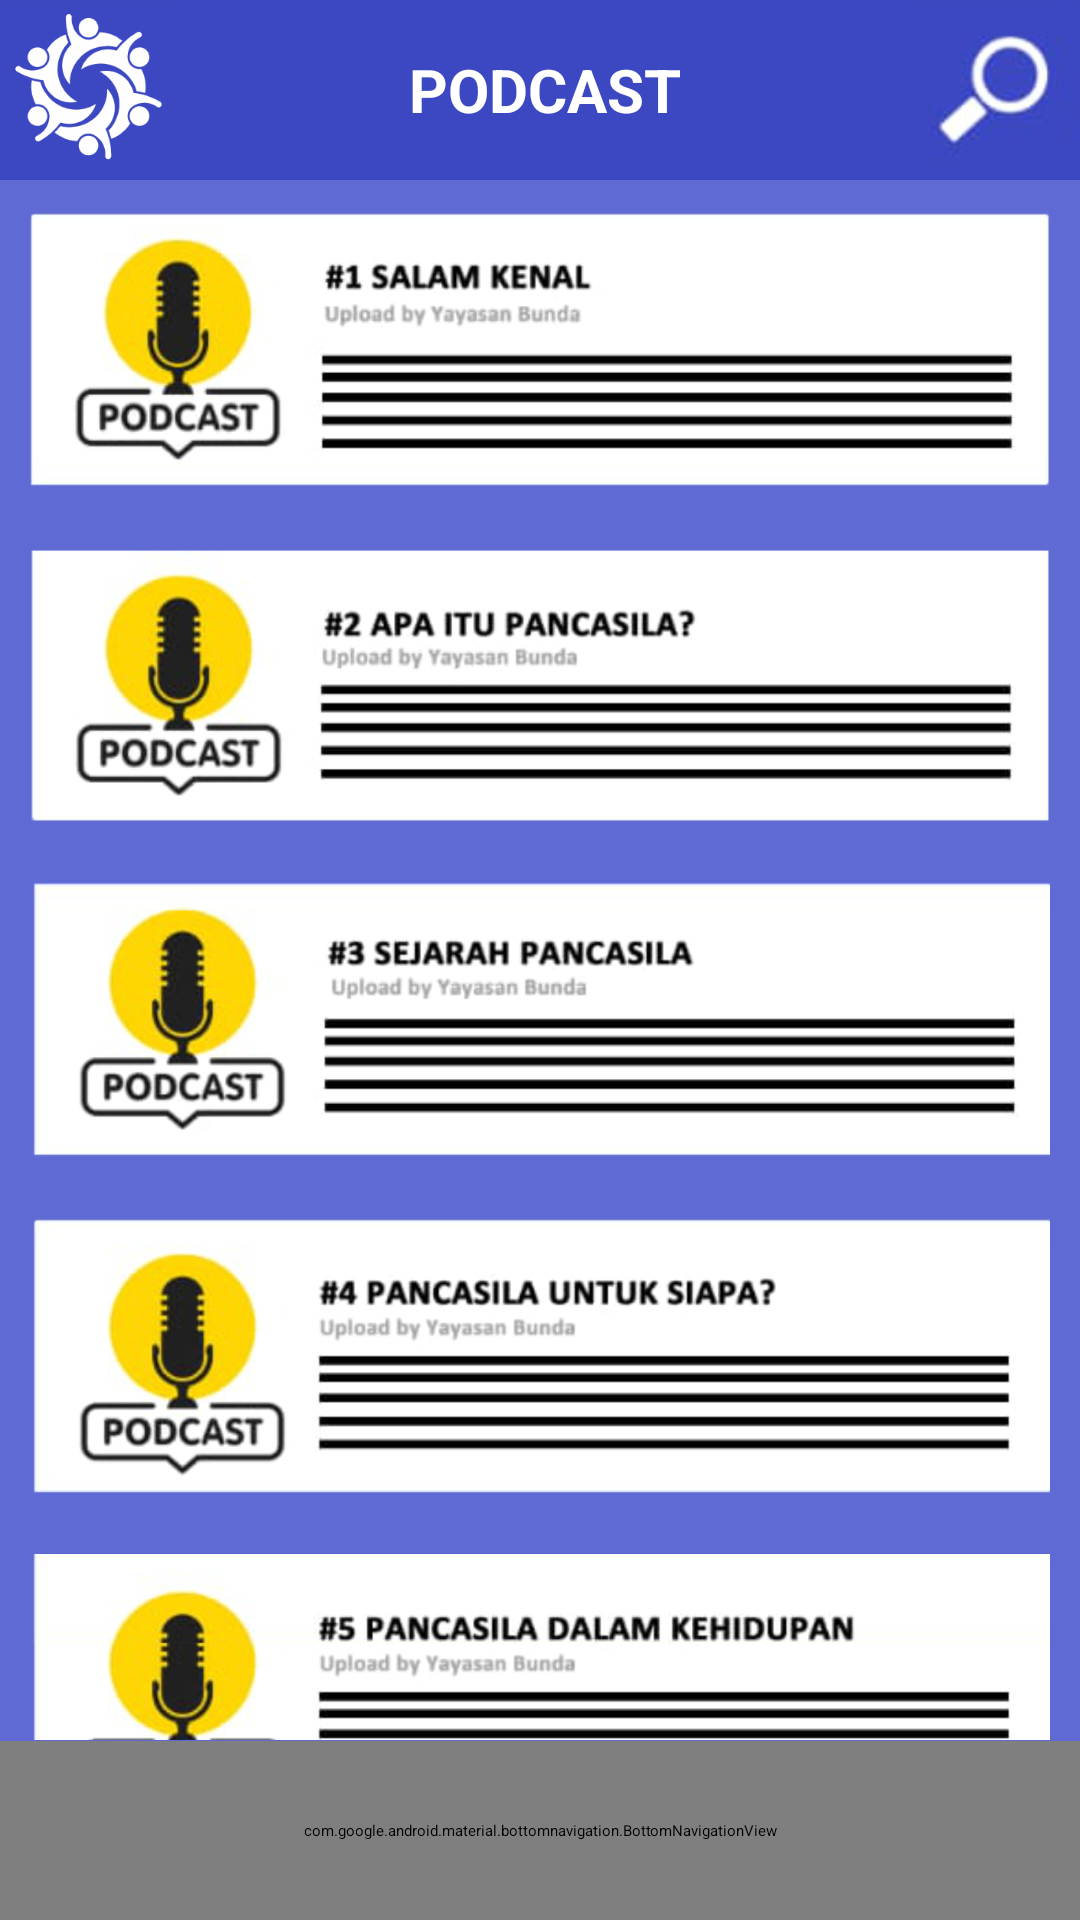

Named icons in this screenshot (1080×1920) and their centers, (x,y):
circle nav: (88,87)
search nav: (994,89)
